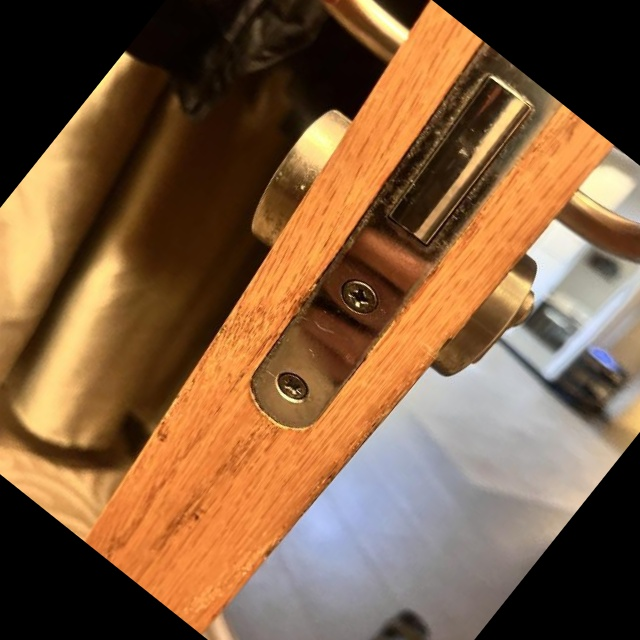phillips: (334, 273, 385, 322)
pozidriv: (272, 367, 313, 406)
